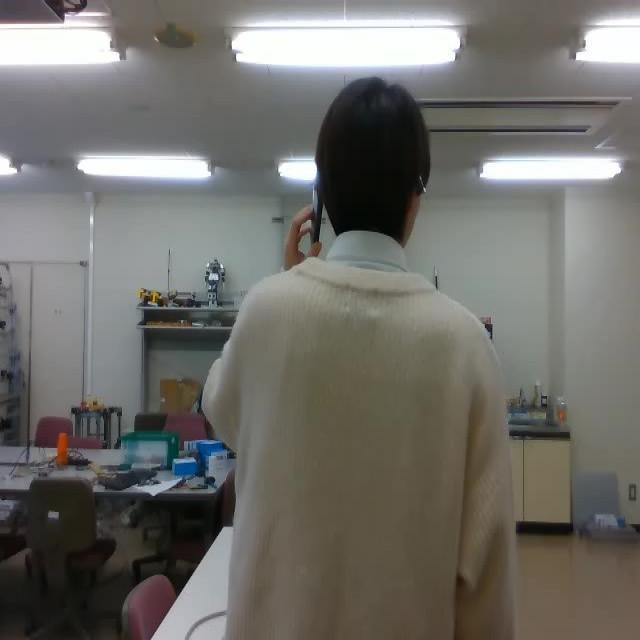Phone: (308, 180, 324, 248)
